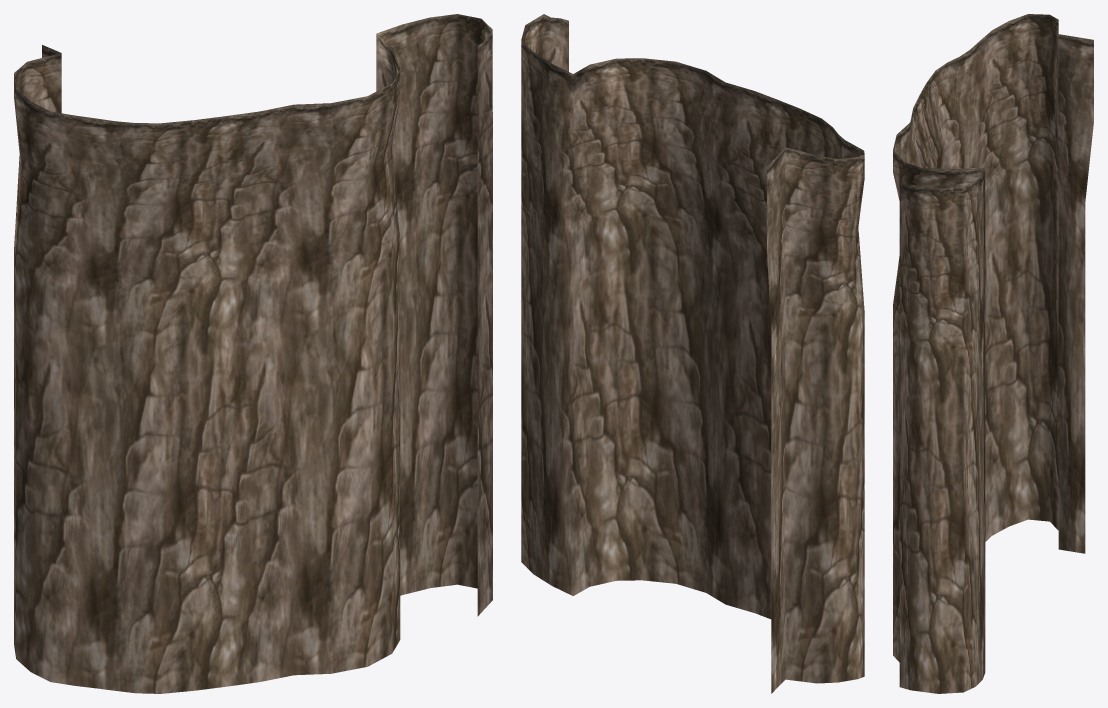
File: OVERHILL_A_01_LINE105.fbx
The picture shows the model from 3 angles, left to right: view 1: azimuth 30°, elevation 25°; view 2: azimuth 150°, elevation 25°; view 3: azimuth 270°, elevation 25°; orthographic projection. The views are drawn at different scales.
Parts seen in each view (by area): view 1: OVERHILL_A_01_LINE105; view 2: OVERHILL_A_01_LINE105; view 3: OVERHILL_A_01_LINE105.
Part boxes in pixels (x1,y1,x2,y2): OVERHILL_A_01_LINE105: (14,14,492,693); OVERHILL_A_01_LINE105: (521,14,864,693); OVERHILL_A_01_LINE105: (893,14,1093,693).
Size of the model in its own units: 168440 by 231756 by 79707.
2 materials, 2 textured.
